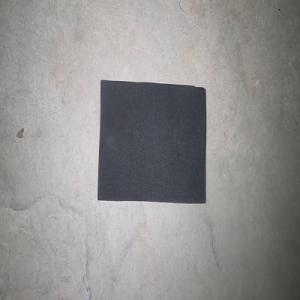PaintChip: (97, 79, 206, 203)
